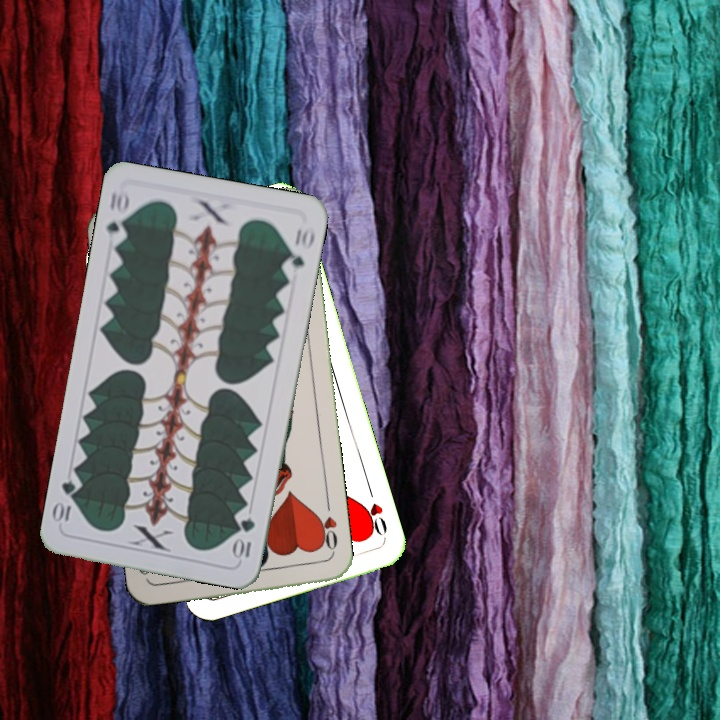G10: (102, 185, 132, 246), (231, 514, 258, 561)
HO: (358, 484, 390, 538), (312, 499, 340, 558)
